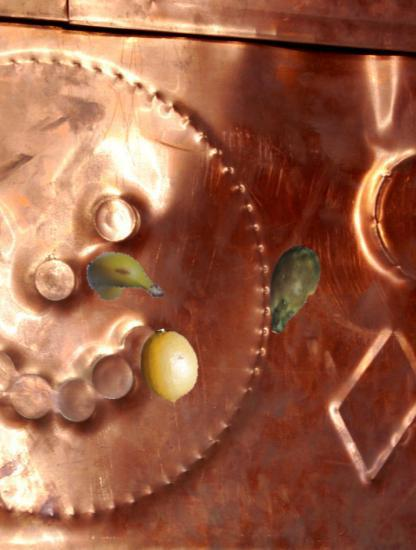Banana: (84, 242, 165, 323)
Cactus: (244, 244, 336, 336)
Lemon: (132, 328, 207, 403)
